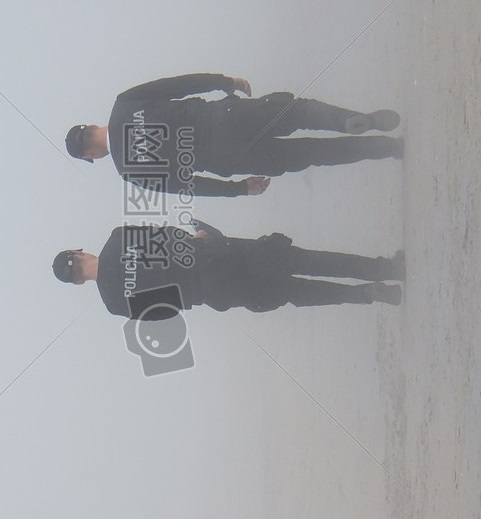person: (65, 68, 406, 202), (49, 213, 407, 319)
